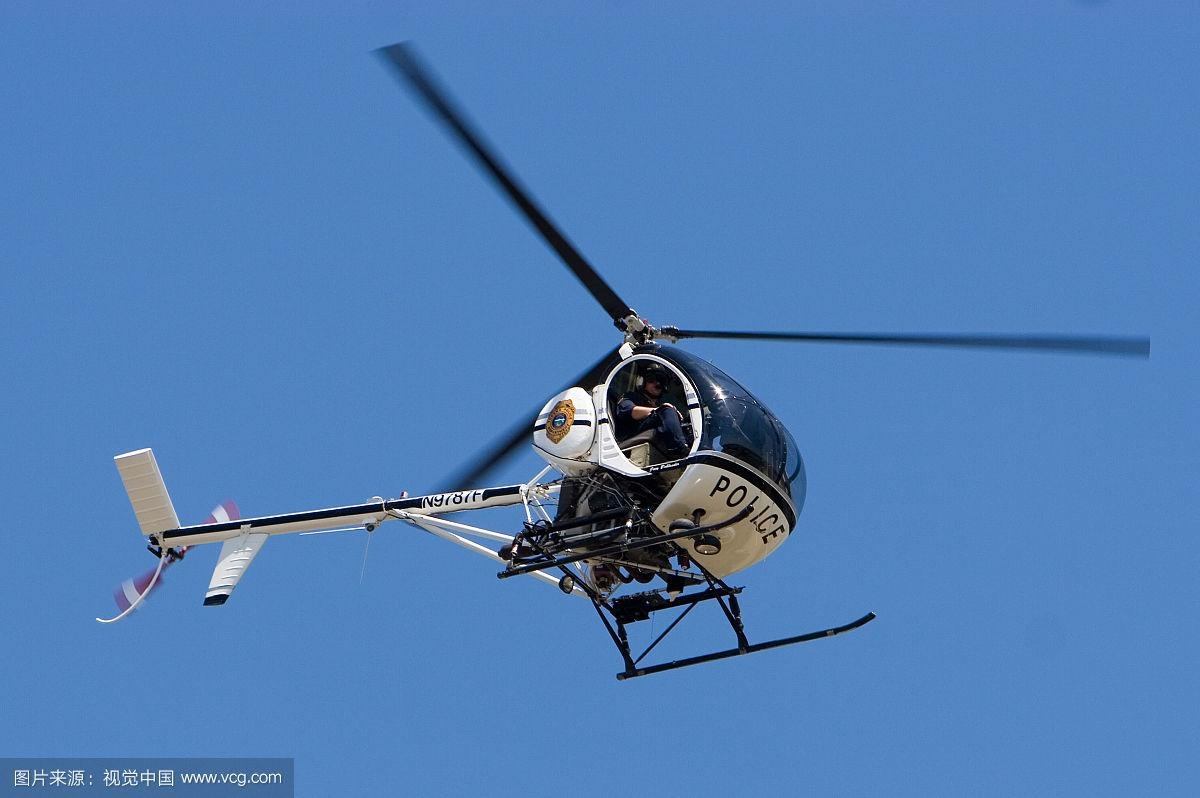airplane: (76, 48, 1159, 676)
person: (623, 369, 688, 446)
